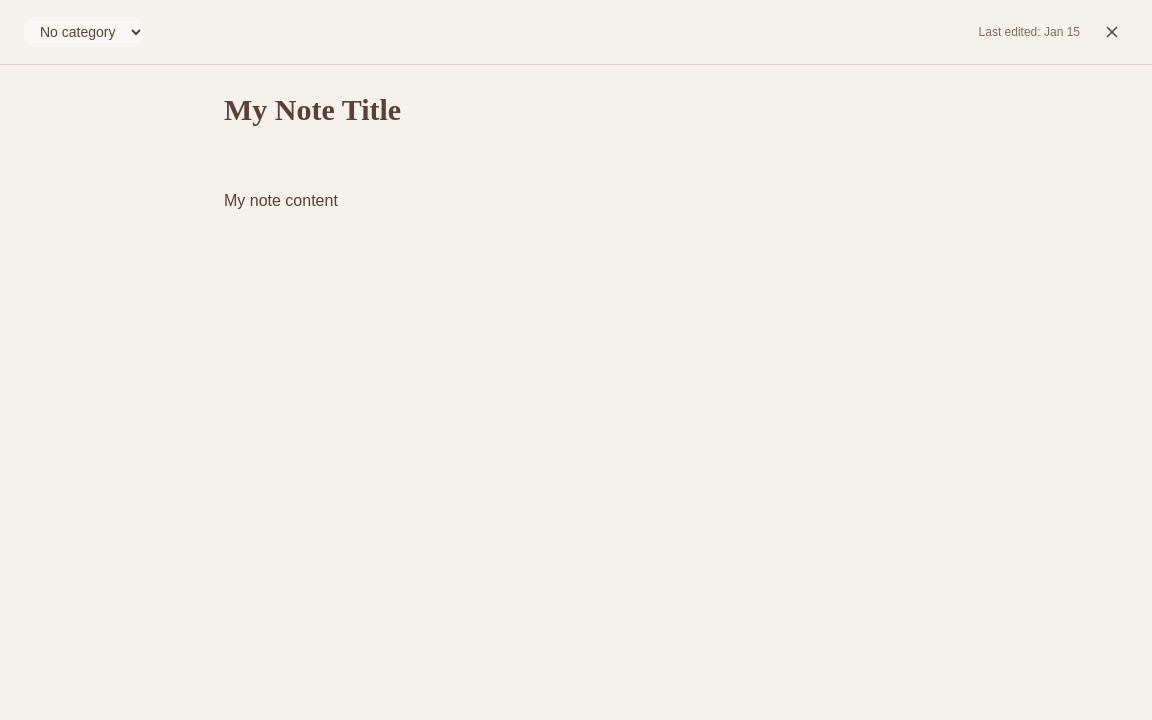
NoteEditor › save error from auto-save › shows error message when auto-save fails
Replace the text in the 2nd text box showing "My note content" with "New content": (576, 442) [224,188,928,696]
Wait 600 ms
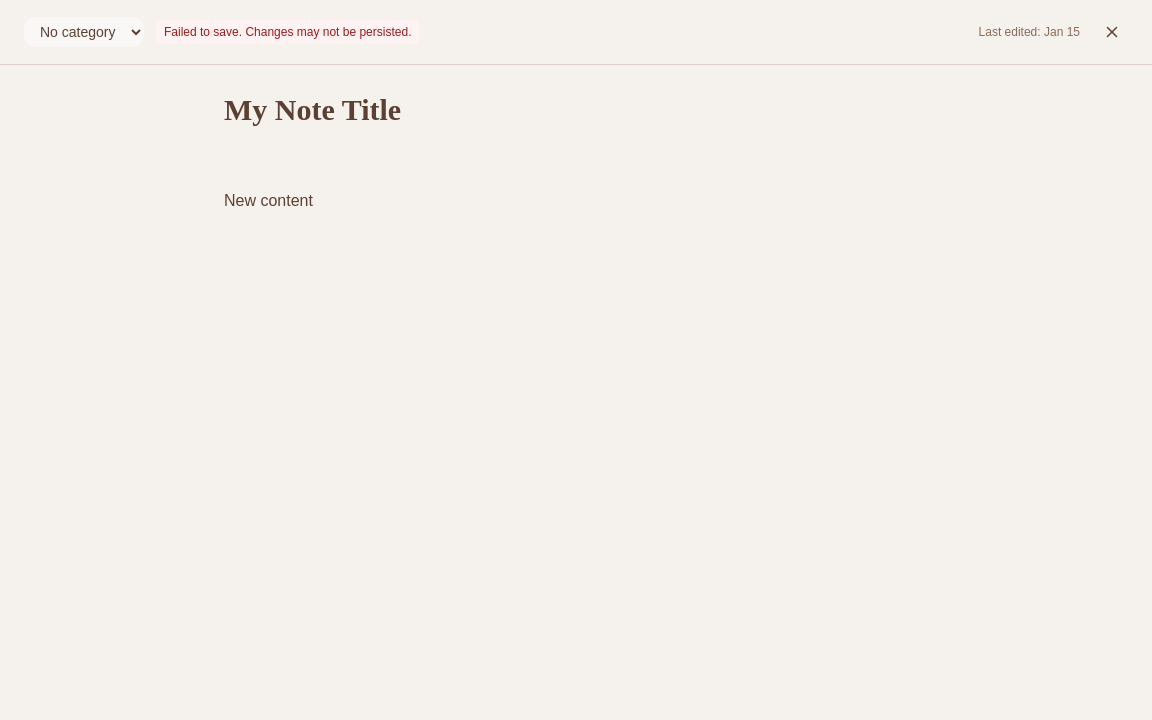
Now the text "Failed to save. Changes may not be persisted." is shown, box [164,24,412,40]
